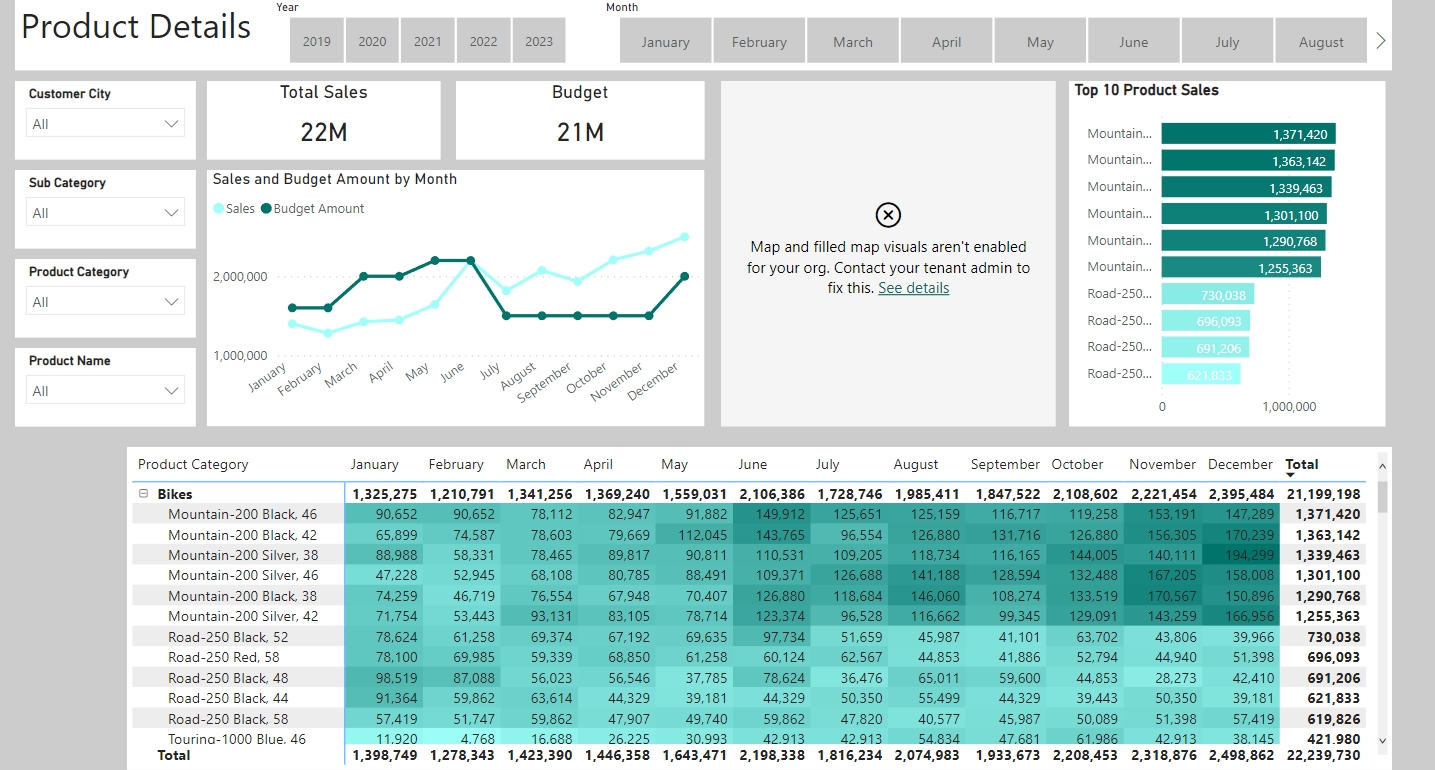

The dashboard page shown, as its layout file describes it:
{"tool":"powerbi","page":{"name":"Product Details","canvas":[1280,720],"ordinal":2},"visuals":[{"type":"textbox","box":[0,0,1280,70],"z":0},{"type":"slicer","fields":{"Values":["DIM_Customer.Customer City"]},"box":[0,79.8,168.3,72.9],"z":1000},{"type":"slicer","fields":{"Values":["DIM_Product.Sub Category"]},"box":[0,162.4,168.3,72.9],"z":2000},{"type":"slicer","fields":{"Values":["DIM_Product.Product Category"]},"box":[0,245.1,168.3,72.9],"z":3000},{"type":"slicer","fields":{"Values":["DIM_Product.Product Name"]},"box":[0,327.8,168.3,72.9],"z":4000},{"type":"slicer","fields":{"Values":["DIM_Calendar.Year"]},"box":[229.5,0,306.4,70],"z":5000},{"type":"slicer","fields":{"Values":["DIM_Calendar.Month"]},"box":[535.9,0,744.1,70],"z":6000},{"type":"lineChart","fields":{"Y":["Key Measures.Sales","Key Measures.Budget Amount"],"Category":["DIM_Calendar.Date.Variation.Date Hierarchy.Month"]},"box":[178,162.4,462,238.3],"z":7000},{"type":"barChart","title":"Top 10 Sales by Customers","fields":{"Y":["Key Measures.Sales"],"Category":["DIM_Product.Product Name"]},"box":[979.5,79.8,293.7,321],"z":8000},{"type":"map","fields":{"Size":["Key Measures.Sales"],"Category":["DIM_Customer.Customer City"]},"box":[655.6,79.8,311.2,321],"z":9000},{"type":"card","title":"Total Sales","fields":{"Values":["Key Measures.Sales"]},"box":[178,79.8,216.9,72.9],"z":10000},{"type":"card","title":"Budget","fields":{"Values":["Sum(FACT_Budget.Budget)"]},"box":[409.5,79.8,230.5,72.9],"z":11000},{"type":"pivotTable","fields":{"Columns":["DIM_Calendar.Month"],"Values":["Key Measures.Sales"],"Rows":["DIM_Product.Product Category","DIM_Product.Product Name"]},"box":[104.1,420.2,1175.9,299.6],"z":12000}]}

Visuals, with their boxes on the page's 1280x720 design canvas (x1, y1, x2, y2). These are canvas units, not pixel positions in the 1435x770 screenshot, which may show the page scaled, cropped or inside an application window:
textbox: <bbox>0, 0, 1280, 70</bbox>
slicer - DIM_Customer.Customer City: <bbox>0, 80, 168, 153</bbox>
slicer - DIM_Product.Sub Category: <bbox>0, 162, 168, 235</bbox>
slicer - DIM_Product.Product Category: <bbox>0, 245, 168, 318</bbox>
slicer - DIM_Product.Product Name: <bbox>0, 328, 168, 401</bbox>
slicer - DIM_Calendar.Year: <bbox>230, 0, 536, 70</bbox>
slicer - DIM_Calendar.Month: <bbox>536, 0, 1280, 70</bbox>
lineChart - Key Measures.Sales x Key Measures.Budget Amount: <bbox>178, 162, 640, 401</bbox>
"Top 10 Sales by Customers" barChart: <bbox>980, 80, 1273, 401</bbox>
map - Key Measures.Sales x DIM_Customer.Customer City: <bbox>656, 80, 967, 401</bbox>
"Total Sales" card: <bbox>178, 80, 395, 153</bbox>
"Budget" card: <bbox>410, 80, 640, 153</bbox>
pivotTable - DIM_Calendar.Month x Key Measures.Sales: <bbox>104, 420, 1280, 720</bbox>
